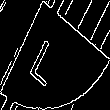L_NE: (35, 24, 75, 86)
